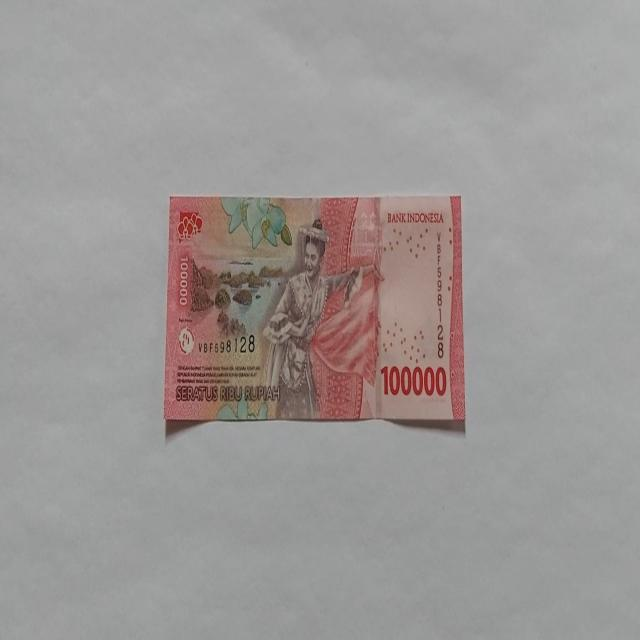seratus ribu rupiah: (162, 194, 466, 428), (259, 217, 362, 419)
